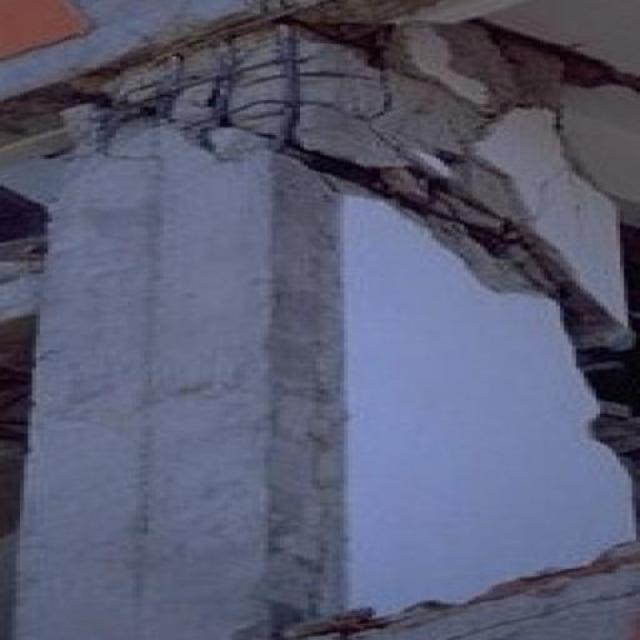D0w0: (2, 6, 633, 329)
